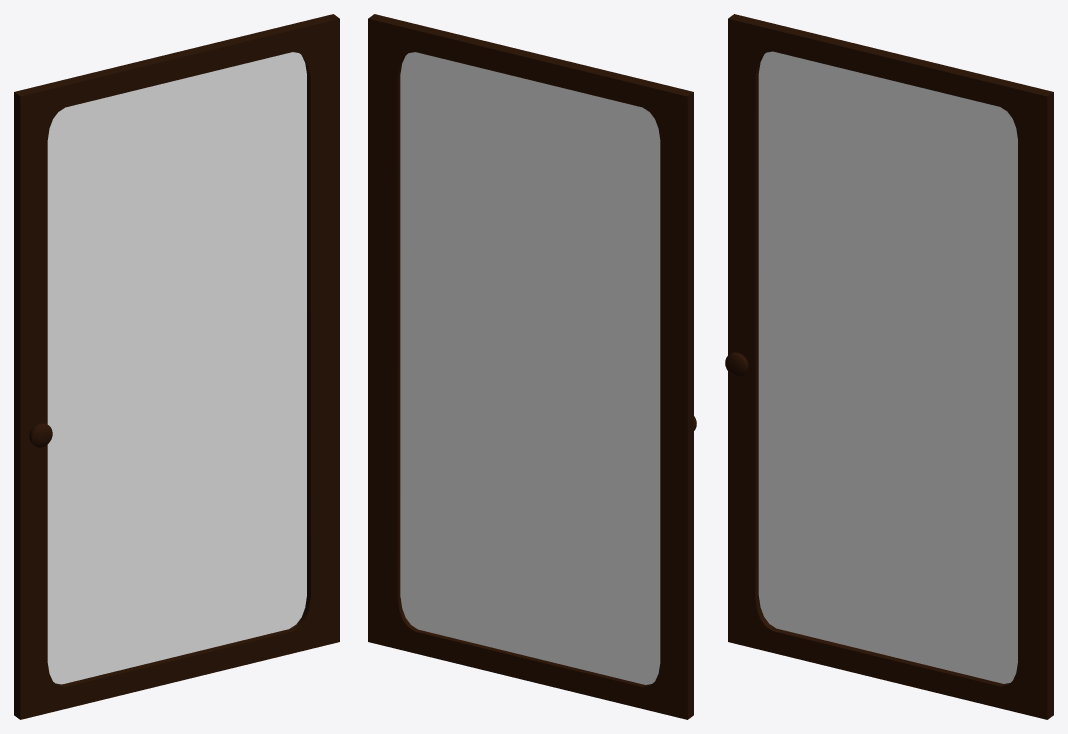
File: cabinet_glass_door_right.FBX
3 views of the same model, side by side, from view 1: azimuth 30°, elevation 25°; view 2: azimuth 150°, elevation 25°; view 3: azimuth 330°, elevation 25° (orthographic).
Visible parts, largest first — view 1: w; view 2: w; view 3: w.
Part boxes in pixels (x1,y1,x2,y2): w: (14, 14, 339, 719); w: (368, 14, 696, 719); w: (725, 14, 1053, 719).
Bounding box in the file's own units: 34.54 × 64.4 × 2.81.
